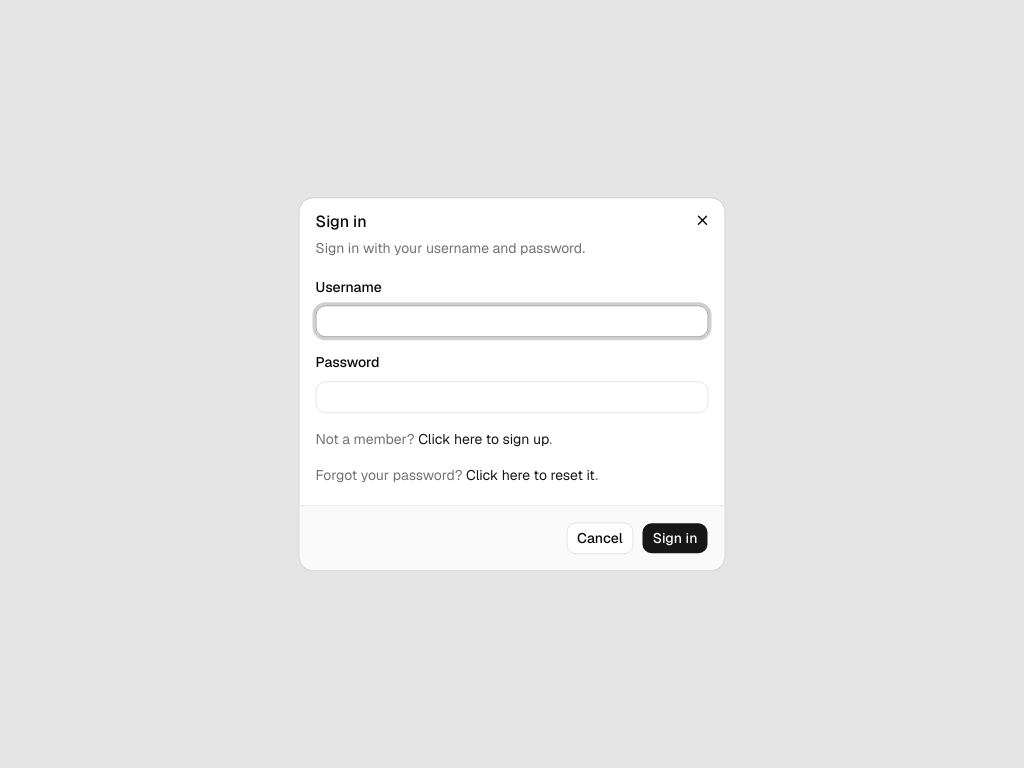
SignInDialog › shows a generic error message when the request throws
In the field labelled "Username": [512, 322] box [316,306,708,338], type "ashketchum"
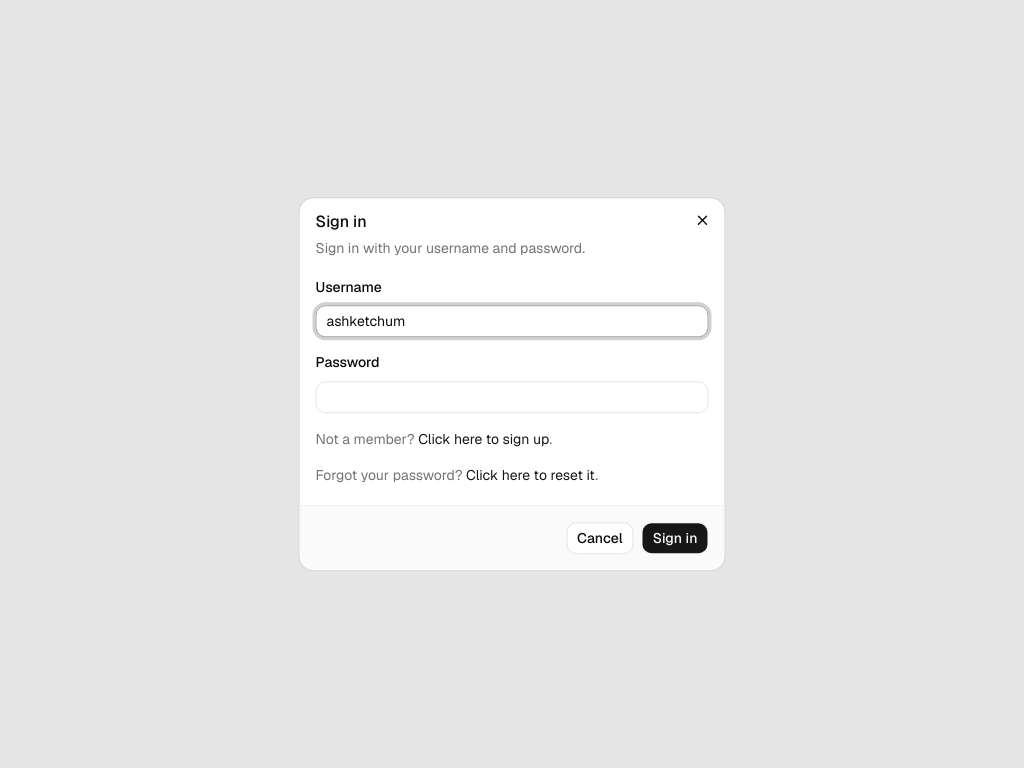
In the password field labelled "Password": [512, 397] box [316,381,708,413], type "Pa$$word1"
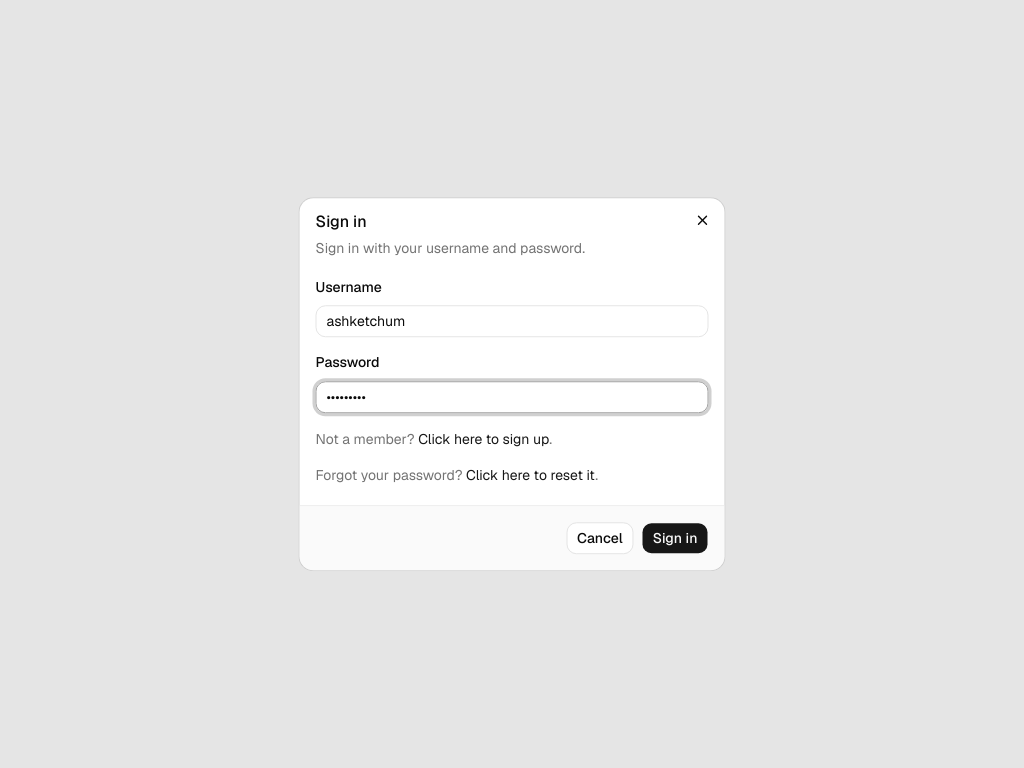
Click the button "Sign in": [675, 538] box [642,522,708,554]
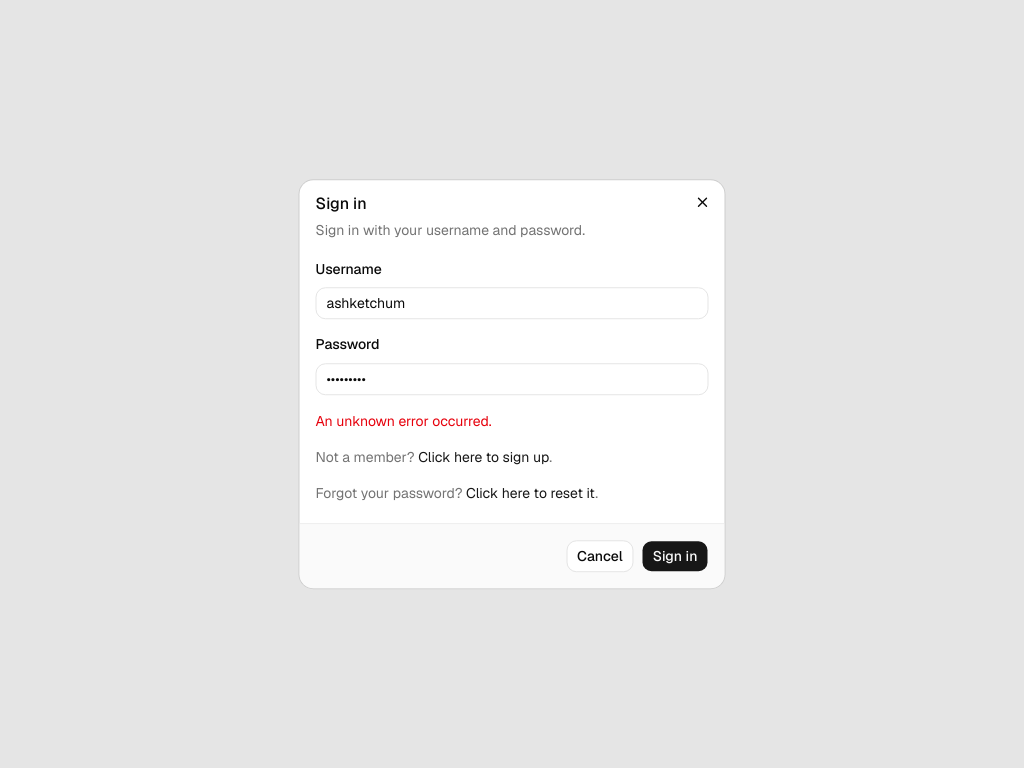
Now the text "An unknown error occurred." is shown, box [316,412,492,430]
